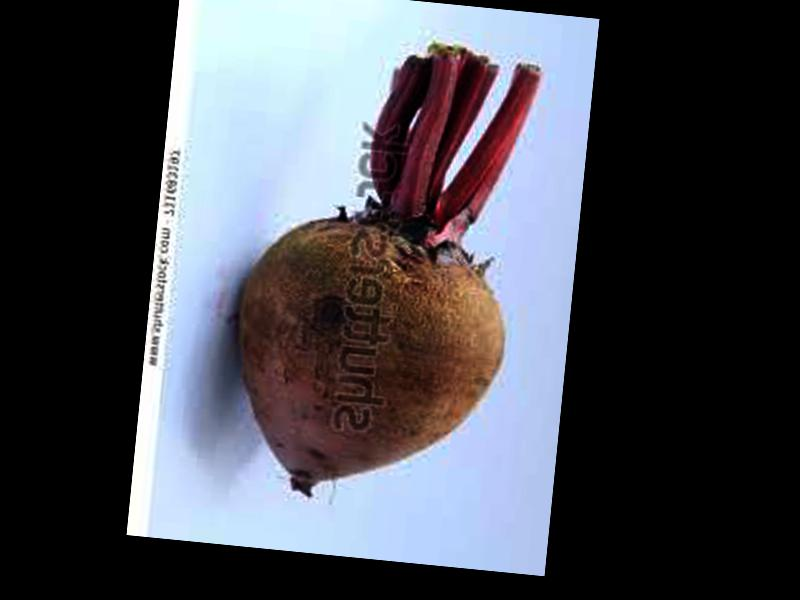Beet: (223, 36, 536, 507)
